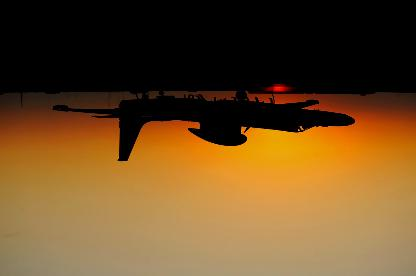Tu160: (54, 92, 356, 162)
